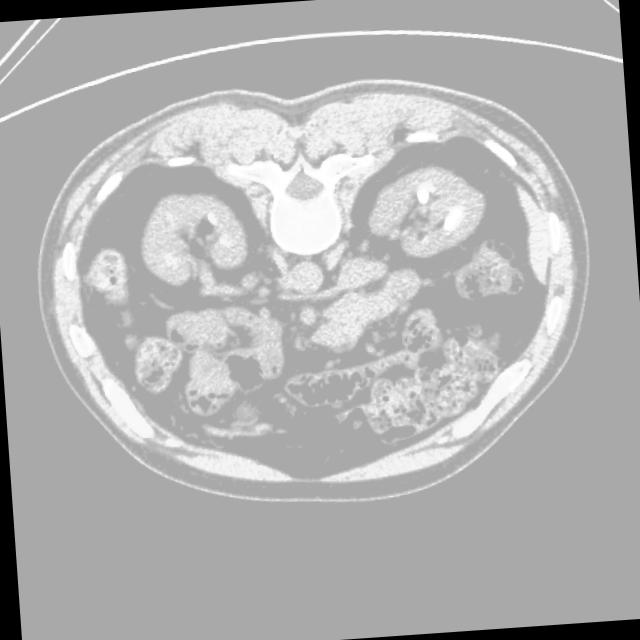STONE: (133, 158, 505, 314)
